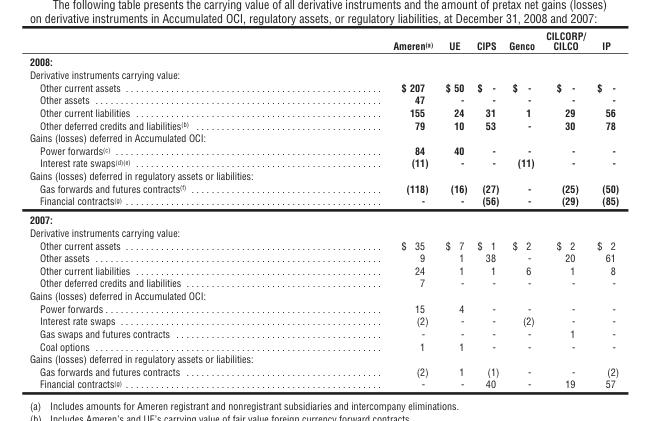table: (28, 28, 618, 389)
table column: (28, 28, 290, 389), (290, 28, 438, 389), (539, 28, 590, 389), (503, 28, 539, 389), (438, 28, 471, 389), (471, 28, 503, 389), (590, 28, 618, 389)
table column header: (28, 28, 618, 53)
table projected row header: (28, 53, 618, 68), (28, 210, 618, 225), (28, 225, 618, 238), (28, 288, 618, 301), (28, 68, 618, 80), (28, 131, 618, 143), (28, 169, 618, 181), (28, 352, 618, 364)
table row: (28, 28, 618, 53), (28, 194, 618, 210), (28, 53, 618, 68), (28, 210, 618, 225), (28, 80, 618, 93), (28, 105, 618, 118), (28, 118, 618, 131), (28, 143, 618, 156), (28, 156, 618, 169), (28, 181, 618, 194), (28, 225, 618, 238), (28, 238, 618, 251), (28, 263, 618, 276), (28, 288, 618, 301), (28, 301, 618, 314), (28, 326, 618, 339), (28, 339, 618, 352), (28, 364, 618, 377), (28, 68, 618, 80), (28, 93, 618, 105), (28, 131, 618, 143), (28, 169, 618, 181), (28, 251, 618, 263), (28, 276, 618, 288), (28, 314, 618, 326), (28, 352, 618, 364), (28, 377, 618, 389)
